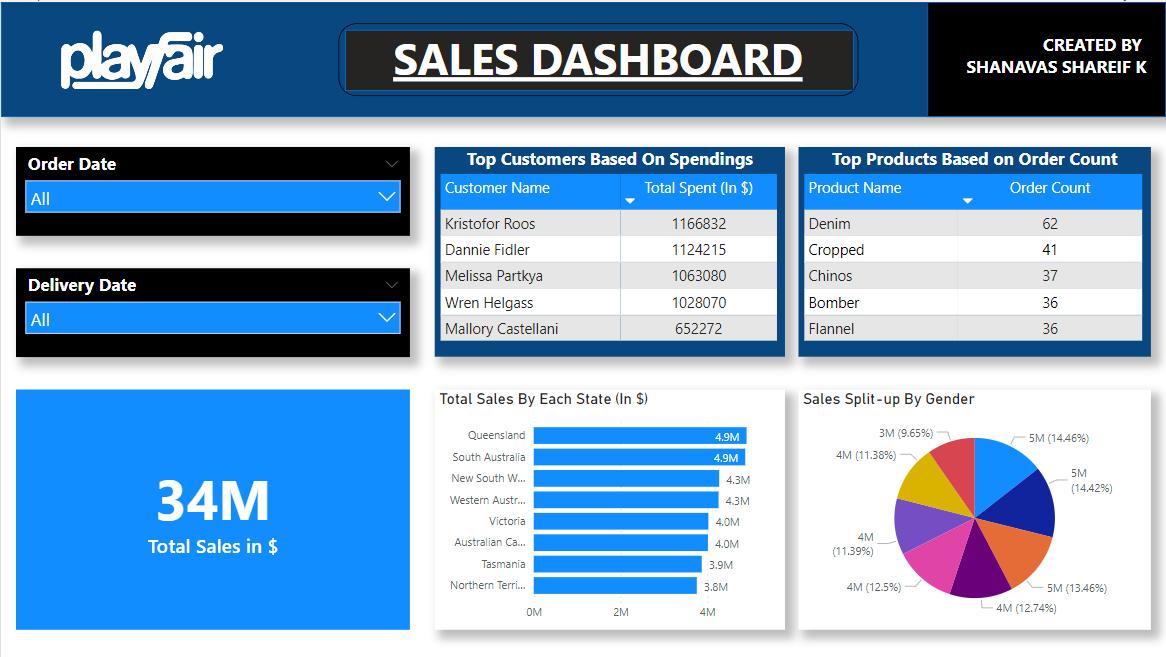

This screenshot's page, from the dashboard's own definition file:
{"tool":"powerbi","page":{"name":"Sales Data","canvas":[1280,720],"ordinal":0},"visuals":[{"type":"shape","box":[0,0,1278.6,126.4],"z":1000},{"type":"shape","box":[1017.7,0,262.3,126.4],"z":1500},{"type":"clusteredBarChart","title":"Total Sales By Each State (In $)","fields":{"Category":["Final Table.state"],"Y":["Final Table.payment"]},"box":[476.6,425.8,384.5,263.7],"z":2000},{"type":"pieChart","title":"Sales Split-up By Gender","fields":{"Category":["Final Table.gender"],"Y":["Final Table.payment"]},"box":[876.2,425.8,387.3,263.7],"z":3000},{"type":"slicer","fields":{"Values":["customers.order date"]},"box":[16.5,159.3,432.6,97.5],"z":4000},{"type":"card","fields":{"Values":["Final Table.payment"]},"box":[16.5,425.8,432.6,263.7],"z":5000},{"type":"tableEx","title":"Top Customers Based On Spendings","fields":{"Values":["Table for Top N.customer_name","Table for Top N.Total payment done so far"]},"box":[476.6,159.3,384.5,230.7],"z":6000},{"type":"shape","box":[370.8,23.3,571.3,79.7],"z":7000},{"type":"tableEx","title":"Top Products Based on Order Count","fields":{"Values":["Final Table.product_name","Final Table.order_id"]},"box":[876.2,159.3,387.3,230.7],"z":8000},{"type":"slicer","fields":{"Values":["Final Table.delivery date"]},"box":[16.5,292.5,432.6,97.5],"z":9000},{"type":"textbox","box":[909.2,28.8,354.3,71.4],"z":10000},{"type":"image","box":[0,6.9,310.4,114],"z":11000},{"type":"textbox","box":[387.3,23.3,537,79.7],"z":12000}]}

Visuals, with their boxes in screenshot pixels (x1, y1, x2, y2), scaled from the page's 1280x720 canvas onto the 1166x657 screenshot:
shape: x1=0, y1=0, x2=1165, y2=115
shape: x1=927, y1=0, x2=1165, y2=115
"Total Sales By Each State (In $)" clusteredBarChart: x1=434, y1=389, x2=784, y2=629
"Sales Split-up By Gender" pieChart: x1=798, y1=389, x2=1151, y2=629
slicer - customers.order date: x1=15, y1=145, x2=409, y2=234
card - Final Table.payment: x1=15, y1=389, x2=409, y2=629
"Top Customers Based On Spendings" tableEx: x1=434, y1=145, x2=784, y2=356
shape: x1=338, y1=21, x2=858, y2=94
"Top Products Based on Order Count" tableEx: x1=798, y1=145, x2=1151, y2=356
slicer - Final Table.delivery date: x1=15, y1=267, x2=409, y2=356
textbox: x1=828, y1=26, x2=1151, y2=91
image: x1=0, y1=6, x2=283, y2=110
textbox: x1=353, y1=21, x2=842, y2=94
